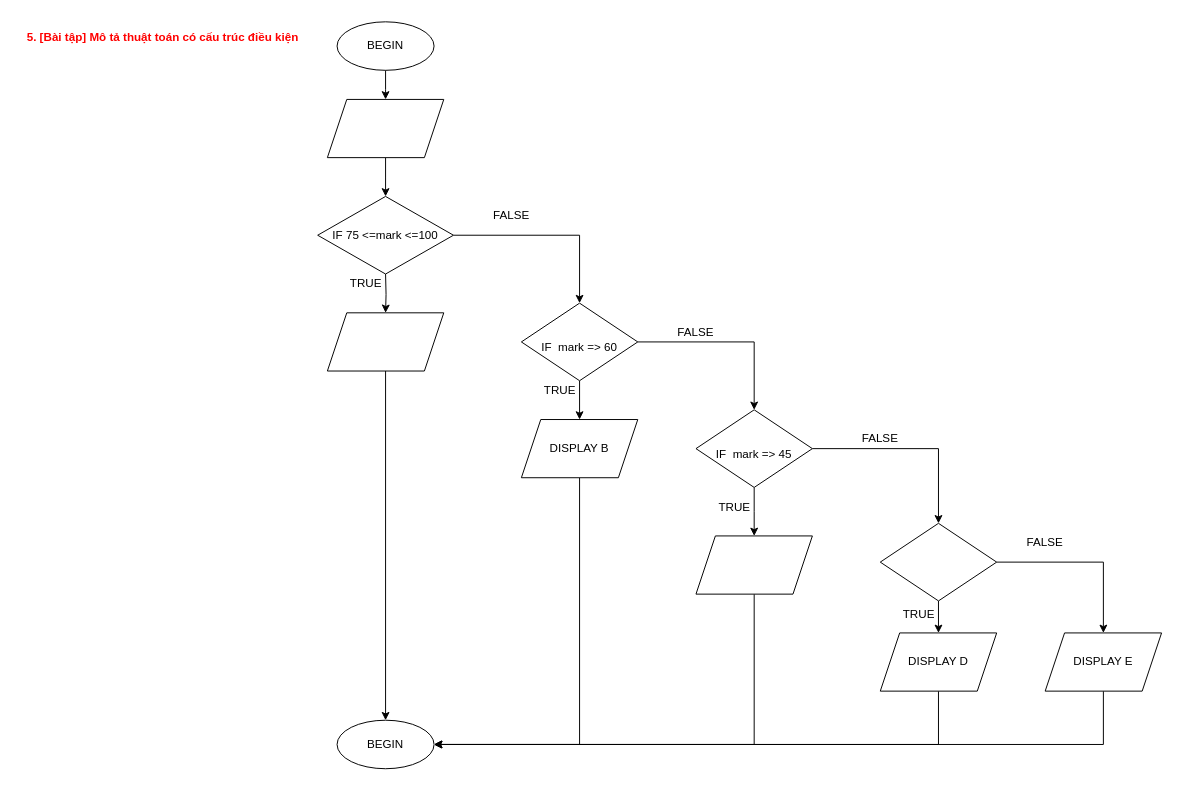
Some shapes in this 1179 by 786 pixel diagram are drawn without their labels. Here are the shapes that lost their labels. From the top down, the centre of each, then its label:
(x=385, y=128): INPUT mark
(x=385, y=341): DISPLAY A
(x=753, y=564): DISPLAY C
(x=938, y=561): IF mark => 35
